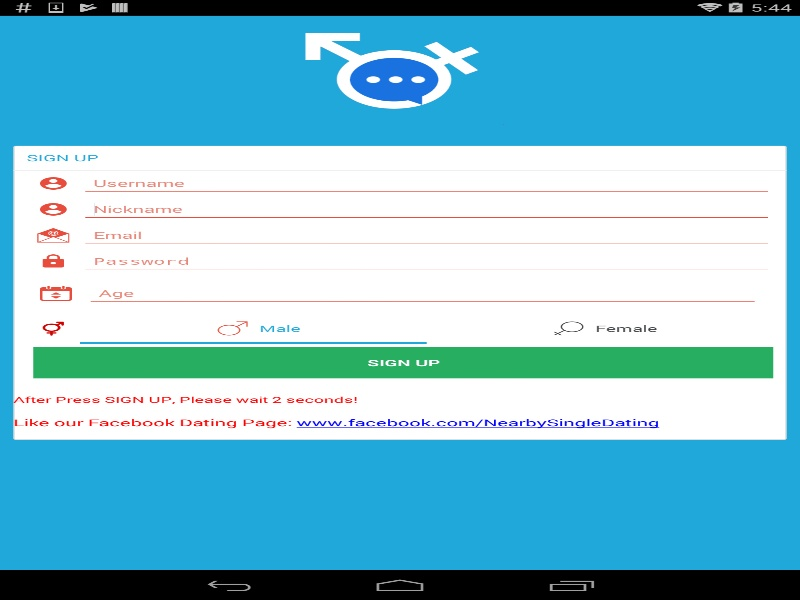Button: (33, 347, 773, 378)
Input: (80, 170, 773, 196), (80, 196, 773, 222), (80, 222, 773, 248), (80, 248, 773, 274), (85, 280, 760, 306)
